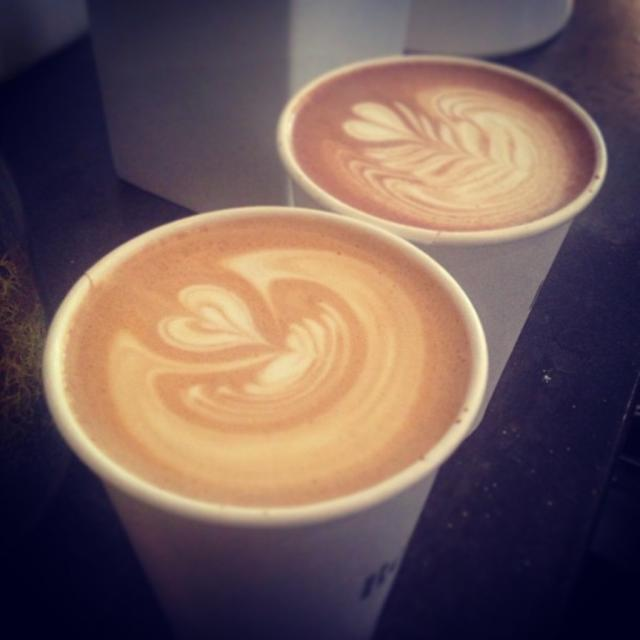latte: (38, 208, 487, 517), (275, 55, 608, 240)
